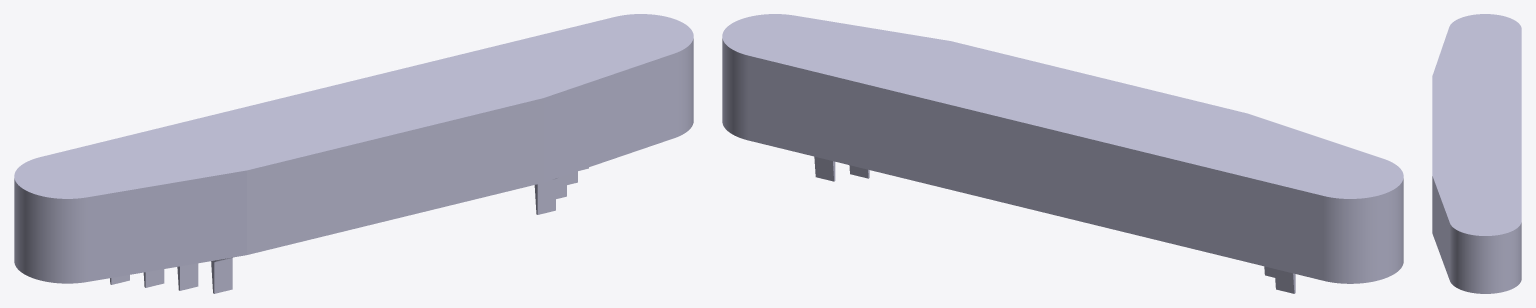
Rendered from CRAWLER_RIGHT.obj.
3 renders of one model, left to right at view 1: azimuth 30°, elevation 25°; view 2: azimuth 150°, elevation 25°; view 3: azimuth 270°, elevation 25°, orthographic. The views are drawn at different scales.
Visible parts, largest first — view 1: SCX1200-3_CRAWLER_000_1-HSC_SCX1200-3_CRAWLER011 (Meshed), SCX1200-3_CRAWLER_000_1-HSC_SCX1200-3_CRAWLER013 (Meshed), SCX1200-3_CRAWLER_000_1-HSC_SCX1200-3_CRAWLER003 (Meshed), SCX1200-3_CRAWLER_000_1-HSC_SCX1200-3_CRAWLER005 (Meshed); view 2: SCX1200-3_CRAWLER_000_1-HSC_SCX1200-3_CRAWLER011 (Meshed), SCX1200-3_CRAWLER_000_1-HSC_SCX1200-3_CRAWLER008 (Meshed), SCX1200-3_CRAWLER_000_1-HSC_SCX1200-3_CRAWLER016 (Meshed); view 3: SCX1200-3_CRAWLER_000_1-HSC_SCX1200-3_CRAWLER011 (Meshed).
Part boxes in pixels (x1,y1,x2,y2): SCX1200-3_CRAWLER_000_1-HSC_SCX1200-3_CRAWLER011 (Meshed): (14,14,693,283); SCX1200-3_CRAWLER_000_1-HSC_SCX1200-3_CRAWLER013 (Meshed): (211,257,232,293); SCX1200-3_CRAWLER_000_1-HSC_SCX1200-3_CRAWLER003 (Meshed): (534,178,557,214); SCX1200-3_CRAWLER_000_1-HSC_SCX1200-3_CRAWLER005 (Meshed): (177,263,198,290); SCX1200-3_CRAWLER_000_1-HSC_SCX1200-3_CRAWLER011 (Meshed): (722,14,1403,283); SCX1200-3_CRAWLER_000_1-HSC_SCX1200-3_CRAWLER008 (Meshed): (814,156,835,181); SCX1200-3_CRAWLER_000_1-HSC_SCX1200-3_CRAWLER016 (Meshed): (1274,269,1295,293); SCX1200-3_CRAWLER_000_1-HSC_SCX1200-3_CRAWLER011 (Meshed): (1432,14,1521,293).
Size of the model in its own units: 7935 by 1419 by 1350.
